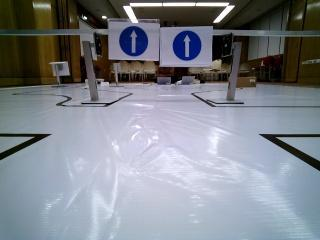straight: (111, 19, 159, 61), (162, 29, 210, 64)
